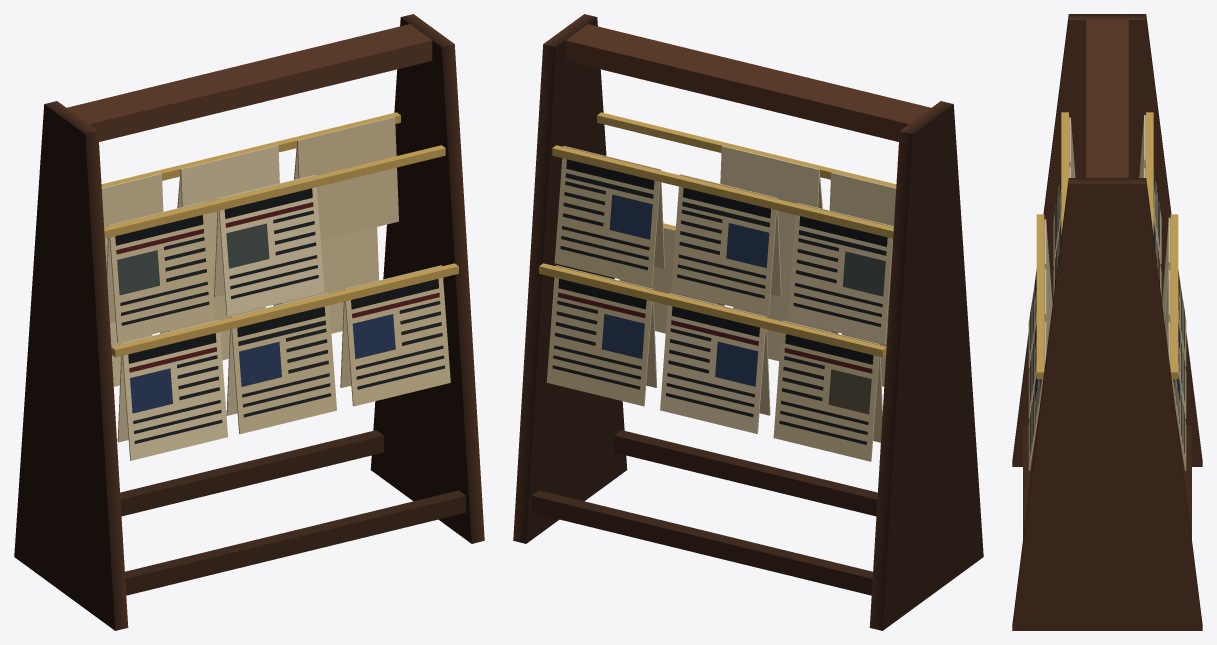
The model's file is SM_NewspaperRack.fbx.
3 renders of one model, left to right at view 1: azimuth 30°, elevation 25°; view 2: azimuth 150°, elevation 25°; view 3: azimuth 270°, elevation 25°, orthographic. The views are drawn at different scales.
Parts seen in each view (by area): view 1: NewspaperRack; view 2: NewspaperRack; view 3: NewspaperRack.
Part boxes in pixels (left/top/right/bottom): NewspaperRack: left=14, top=14, right=484, bottom=630; NewspaperRack: left=513, top=14, right=983, bottom=630; NewspaperRack: left=1012, top=14, right=1202, bottom=630.
Size of the model in its own units: 1.14 by 1.4 by 0.54.
